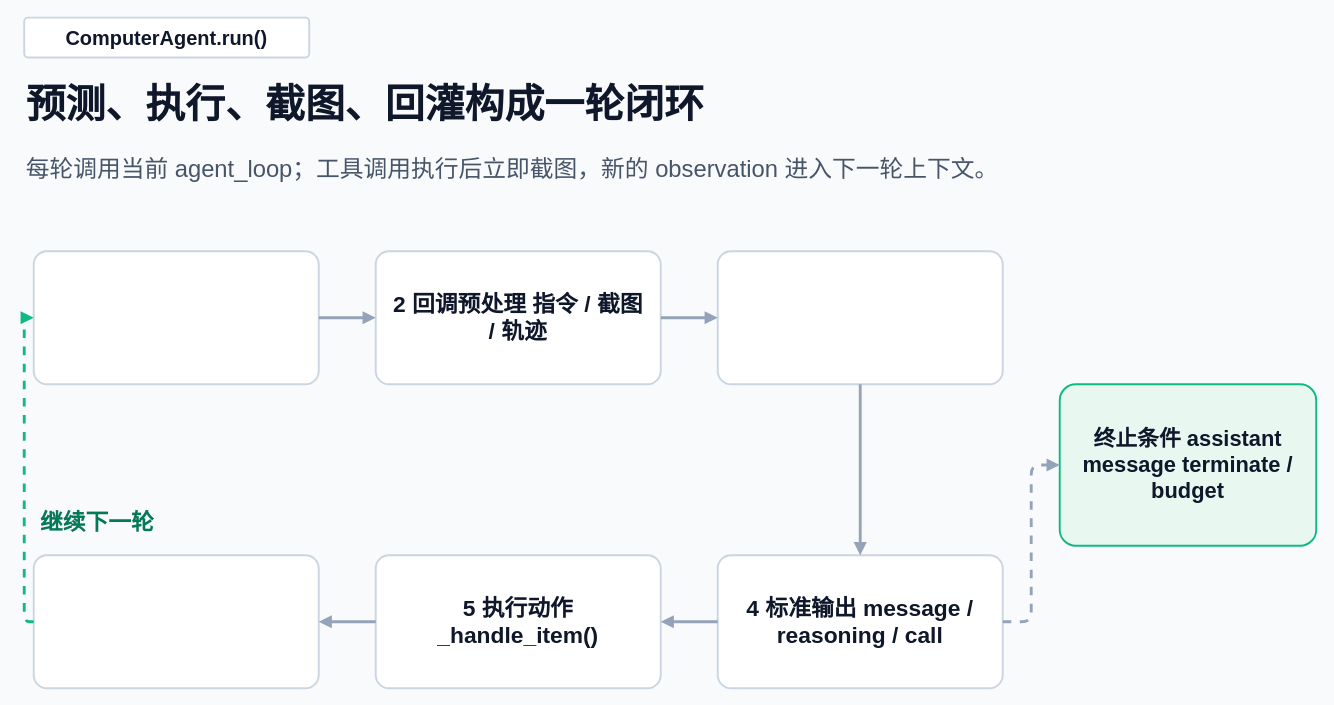
The diagram is 1334 pixels wide and 705 high, and some of its shapes have lost their labels. The shapes that lost their labels are listed below. From the top down, each one's centre as x and y in pixels, then its label:
At (x=175, y=317): "1 合并上下文 old_items + new_items".
At (x=859, y=317): "3 模型预测 predict_step()".
At (x=175, y=621): "6 结果回灌 computer_call_output".
